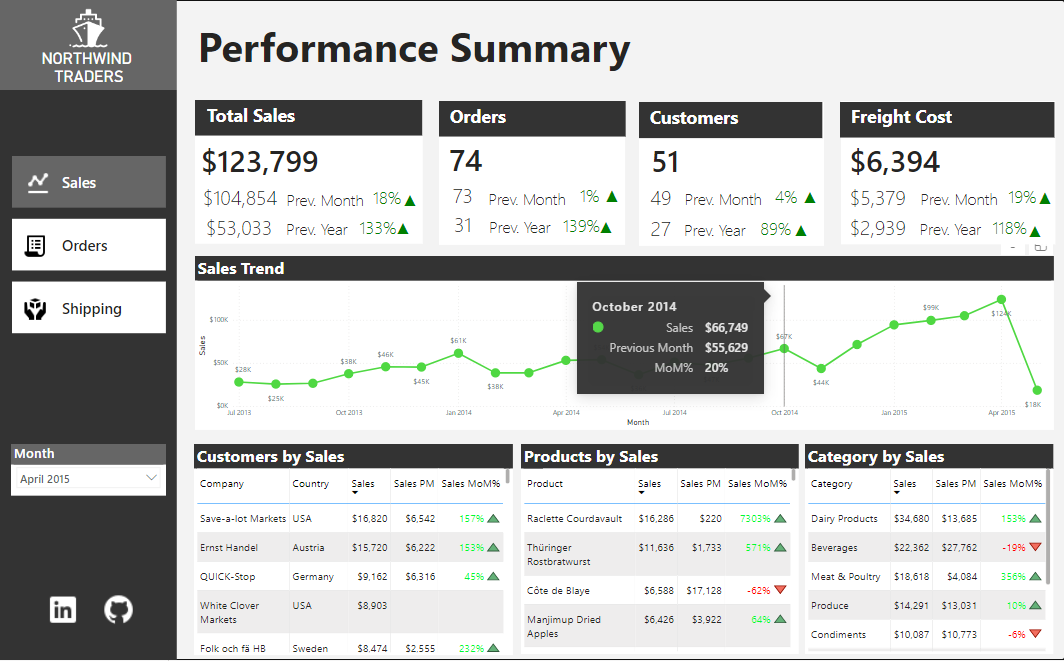

Layout of this report page (visuals, bound fields, positions):
{"tool":"powerbi","page":{"name":"Sales","canvas":[1920,1188],"ordinal":0},"visuals":[{"type":"shape","box":[0,162.3,320.3,1088.5],"z":0},{"type":"shape","box":[0,0,320.3,162.3],"z":1000},{"type":"textbox","box":[353,28.9,856.8,117.7],"z":2000},{"type":"slicer","title":"Month","fields":{"Values":["DimDate.Date (bins)"]},"box":[21.6,798.5,279.1,93],"z":3000},{"type":"lineChart","title":"Sales Trend","fields":{"Y":["measure_table.sales total"],"Category":["DimDate.Date (bins)"]},"box":[352.7,461.2,1546.3,313],"z":4000},{"type":"tableEx","title":"Customers by Sales","fields":{"Values":["customers.companyName","customers.country","measure_table.sales total","measure_table.sales PreviousMonth","measure_table.sales MoM%"]},"box":[350.6,799.2,573.8,380.2],"z":5000},{"type":"tableEx","title":"Products by Sales","fields":{"Values":["products.productName","measure_table.sales total","measure_table.sales PreviousMonth","measure_table.sales MoM%"]},"box":[939.8,798.7,500,378],"z":6000},{"type":"tableEx","title":"Category by Sales","fields":{"Values":["categories.categoryName","measure_table.sales total","measure_table.sales PreviousMonth","measure_table.sales MoM%"]},"box":[1451.3,798.7,447,378],"z":7000},{"type":"image","box":[60.6,1060.3,108.2,73.6],"z":8000},{"type":"image","box":[160.1,1060.3,110.4,73.6],"z":9000},{"type":"pageNavigator","title":"Menu","box":[22.7,281,277.2,320],"z":10000},{"type":"image","box":[22.7,299.8,93.2,58],"z":11000},{"type":"image","box":[17.6,413.2,93.2,58],"z":12000},{"type":"image","box":[17.6,526.6,93.2,58],"z":13000},{"type":"image","box":[99.5,10.8,123.3,80.1],"z":14000},{"type":"textbox","box":[26,83,272.7,75.7],"z":15000},{"type":"shape","box":[352.5,181,409.5,257.1],"z":16000},{"type":"shape","box":[792.2,181.1,335,258.6],"z":17000},{"type":"shape","box":[1152,182.8,333,258.6],"z":18000},{"type":"shape","box":[1514.8,181,386,257.7],"z":19000},{"type":"card","fields":{"Values":["measure_table.sales total"]},"box":[350.7,241.2,235.9,90.9],"z":20000},{"type":"card","fields":{"Values":["measure_table.order total"]},"box":[785.5,244.5,110.4,82.2],"z":21000},{"type":"card","fields":{"Values":["measure_table.customer total"]},"box":[1157.7,253.2,84.4,67.1],"z":22000},{"type":"shape","box":[353.2,180.8,408.8,64],"z":23000},{"type":"shape","box":[792.1,181.6,335.5,64.5],"z":24000},{"type":"shape","box":[1152.8,183,330.5,64.9],"z":25000},{"type":"shape","box":[1514.5,182.9,385.5,64.5],"z":26000},{"type":"textbox","box":[807.2,181.9,260.1,64],"z":27000},{"type":"textbox","box":[1167.1,183.5,260.1,64],"z":28000},{"type":"textbox","box":[369.7,180.8,260.1,64],"z":29000},{"type":"textbox","box":[1528.8,181.5,260.1,64],"z":30000},{"type":"card","fields":{"Values":["measure_table.MoM% Sales"]},"box":[649.3,319.2,97.4,75.7],"z":31000},{"type":"card","fields":{"Values":["measure_table.Icon 1"]},"box":[718.6,343,43.3,32.5],"z":32000},{"type":"card","fields":{"Values":["measure_table.PreviousMonthnetprice"]},"box":[348.6,327.8,168.8,56.3],"z":33000},{"type":"card","fields":{"Values":["measure_table.order MoM%"]},"box":[1023.5,318.1,77.9,69.2],"z":34000},{"type":"card","fields":{"Values":["measure_table.order Icon 1"]},"box":[1082,335.4,43.3,34.6],"z":35000},{"type":"card","fields":{"Values":["measure_table.order PreviousMonth"]},"box":[798.5,324.6,71.4,54.1],"z":36000},{"type":"card","fields":{"Values":["measure_table.customer MoM%"]},"box":[1376.3,322.4,80.1,62.8],"z":37000},{"type":"card","fields":{"Values":["measure_table.customer Icon 1"]},"box":[1439,337.6,43.3,32.5],"z":38000},{"type":"card","fields":{"Values":["measure_table.customer PreviousMonth"]},"box":[1146.9,328.9,88.7,49.8],"z":39000},{"type":"card","fields":{"Values":["measure_table.Text"]},"box":[503.7,340.6,165.2,43.4],"z":40000},{"type":"card","fields":{"Values":["measure_table.Text"]},"box":[865,332.4,169.3,51.6],"z":41000},{"type":"card","fields":{"Values":["measure_table.Text"]},"box":[1216,332.4,173.4,49.5],"z":42000},{"type":"card","fields":{"Values":["measure_table.freight total"]},"box":[1514.8,246.7,192.6,80.1],"z":43000},{"type":"card","fields":{"Values":["measure_table.freight MoM%"]},"box":[1796.1,320.3,90.9,67.1],"z":44000},{"type":"card","fields":{"Values":["measure_table.freight Icon 1"]},"box":[1861,337.6,43.3,34.6],"z":45000},{"type":"card","fields":{"Values":["measure_table.freight PreviousMonth"]},"box":[1510.4,326.8,142.8,56.3],"z":46000},{"type":"card","fields":{"Values":["measure_table.Text"]},"box":[1645.4,332.4,165.2,49.5],"z":47000},{"type":"card","fields":{"Values":["measure_table.sales PreviousYear"]},"box":[357.2,381.9,151.5,54.1],"z":48000},{"type":"card","fields":{"Values":["measure_table.Text 2"]},"box":[489.9,386.7,164.6,51.6],"z":49000},{"type":"card","fields":{"Values":["measure_table.Text 2"]},"box":[854.8,380.8,164.6,53.5],"z":50000},{"type":"card","fields":{"Values":["measure_table.Text 2"]},"box":[1205.8,388.7,164.6,51.6],"z":51000},{"type":"card","fields":{"Values":["measure_table.Text 2"]},"box":[1628.3,386.7,166.6,51.6],"z":52000},{"type":"card","fields":{"Values":["measure_table.order PreviousYear"]},"box":[798.5,376.5,71.4,54.1],"z":53000},{"type":"card","fields":{"Values":["measure_table.customer PreviousYear"]},"box":[1146.9,385.2,88.7,49.8],"z":54000},{"type":"card","fields":{"Values":["measure_table.freight PreviousYear"]},"box":[1510.4,380.9,142.8,56.3],"z":55000},{"type":"card","fields":{"Values":["measure_table.sales YoY Icon"]},"box":[706.1,394.7,43.6,31.7],"z":56000},{"type":"card","fields":{"Values":["measure_table.freight YoY Icon"]},"box":[1842.9,399.1,43.3,32.5],"z":57000},{"type":"card","fields":{"Values":["measure_table.customer YoY Icon"]},"box":[1422,398.6,43.6,31.7],"z":58000},{"type":"card","fields":{"Values":["measure_table.order YoY Icon"]},"box":[1071,392.7,43.6,31.7],"z":59000},{"type":"card","fields":{"Values":["measure_table.sales YoY%"]},"box":[642.6,370.9,79.3,77.3],"z":60000},{"type":"card","fields":{"Values":["measure_table.order YoY%"]},"box":[1009.5,368.9,77.3,75.4],"z":61000},{"type":"card","fields":{"Values":["measure_table.customer YoY%"]},"box":[1359,374.4,77.9,75.7],"z":62000},{"type":"card","fields":{"Values":["measure_table.freight YoY%"]},"box":[1780.2,373.1,77.9,75.7],"z":63000}]}

Visuals, with their boxes on the page's 1920x1188 design canvas (x1, y1, x2, y2). These are canvas units, not pixel positions in the 1064x661 screenshot, which may show the page scaled, cropped or inside an application window:
shape: x1=0, y1=162, x2=320, y2=1251
shape: x1=0, y1=0, x2=320, y2=162
textbox: x1=353, y1=29, x2=1210, y2=147
"Month" slicer: x1=22, y1=798, x2=301, y2=892
"Sales Trend" lineChart: x1=353, y1=461, x2=1899, y2=774
"Customers by Sales" tableEx: x1=351, y1=799, x2=924, y2=1179
"Products by Sales" tableEx: x1=940, y1=799, x2=1440, y2=1177
"Category by Sales" tableEx: x1=1451, y1=799, x2=1898, y2=1177
image: x1=61, y1=1060, x2=169, y2=1134
image: x1=160, y1=1060, x2=270, y2=1134
"Menu" pageNavigator: x1=23, y1=281, x2=300, y2=601
image: x1=23, y1=300, x2=116, y2=358
image: x1=18, y1=413, x2=111, y2=471
image: x1=18, y1=527, x2=111, y2=585
image: x1=100, y1=11, x2=223, y2=91
textbox: x1=26, y1=83, x2=299, y2=159
shape: x1=352, y1=181, x2=762, y2=438
shape: x1=792, y1=181, x2=1127, y2=440
shape: x1=1152, y1=183, x2=1485, y2=441
shape: x1=1515, y1=181, x2=1901, y2=439
card - measure_table.sales total: x1=351, y1=241, x2=587, y2=332
card - measure_table.order total: x1=786, y1=244, x2=896, y2=327
card - measure_table.customer total: x1=1158, y1=253, x2=1242, y2=320
shape: x1=353, y1=181, x2=762, y2=245
shape: x1=792, y1=182, x2=1128, y2=246
shape: x1=1153, y1=183, x2=1483, y2=248
shape: x1=1514, y1=183, x2=1900, y2=247
textbox: x1=807, y1=182, x2=1067, y2=246
textbox: x1=1167, y1=184, x2=1427, y2=248
textbox: x1=370, y1=181, x2=630, y2=245
textbox: x1=1529, y1=182, x2=1789, y2=246
card - measure_table.MoM% Sales: x1=649, y1=319, x2=747, y2=395
card - measure_table.Icon 1: x1=719, y1=343, x2=762, y2=376
card - measure_table.PreviousMonthnetprice: x1=349, y1=328, x2=517, y2=384
card - measure_table.order MoM%: x1=1024, y1=318, x2=1101, y2=387
card - measure_table.order Icon 1: x1=1082, y1=335, x2=1125, y2=370
card - measure_table.order PreviousMonth: x1=798, y1=325, x2=870, y2=379
card - measure_table.customer MoM%: x1=1376, y1=322, x2=1456, y2=385
card - measure_table.customer Icon 1: x1=1439, y1=338, x2=1482, y2=370
card - measure_table.customer PreviousMonth: x1=1147, y1=329, x2=1236, y2=379
card - measure_table.Text: x1=504, y1=341, x2=669, y2=384
card - measure_table.Text: x1=865, y1=332, x2=1034, y2=384
card - measure_table.Text: x1=1216, y1=332, x2=1389, y2=382
card - measure_table.freight total: x1=1515, y1=247, x2=1707, y2=327
card - measure_table.freight MoM%: x1=1796, y1=320, x2=1887, y2=387
card - measure_table.freight Icon 1: x1=1861, y1=338, x2=1904, y2=372
card - measure_table.freight PreviousMonth: x1=1510, y1=327, x2=1653, y2=383
card - measure_table.Text: x1=1645, y1=332, x2=1811, y2=382
card - measure_table.sales PreviousYear: x1=357, y1=382, x2=509, y2=436
card - measure_table.Text 2: x1=490, y1=387, x2=654, y2=438
card - measure_table.Text 2: x1=855, y1=381, x2=1019, y2=434
card - measure_table.Text 2: x1=1206, y1=389, x2=1370, y2=440
card - measure_table.Text 2: x1=1628, y1=387, x2=1795, y2=438
card - measure_table.order PreviousYear: x1=798, y1=376, x2=870, y2=431
card - measure_table.customer PreviousYear: x1=1147, y1=385, x2=1236, y2=435
card - measure_table.freight PreviousYear: x1=1510, y1=381, x2=1653, y2=437
card - measure_table.sales YoY Icon: x1=706, y1=395, x2=750, y2=426
card - measure_table.freight YoY Icon: x1=1843, y1=399, x2=1886, y2=432
card - measure_table.customer YoY Icon: x1=1422, y1=399, x2=1466, y2=430
card - measure_table.order YoY Icon: x1=1071, y1=393, x2=1115, y2=424
card - measure_table.sales YoY%: x1=643, y1=371, x2=722, y2=448
card - measure_table.order YoY%: x1=1010, y1=369, x2=1087, y2=444
card - measure_table.customer YoY%: x1=1359, y1=374, x2=1437, y2=450
card - measure_table.freight YoY%: x1=1780, y1=373, x2=1858, y2=449
